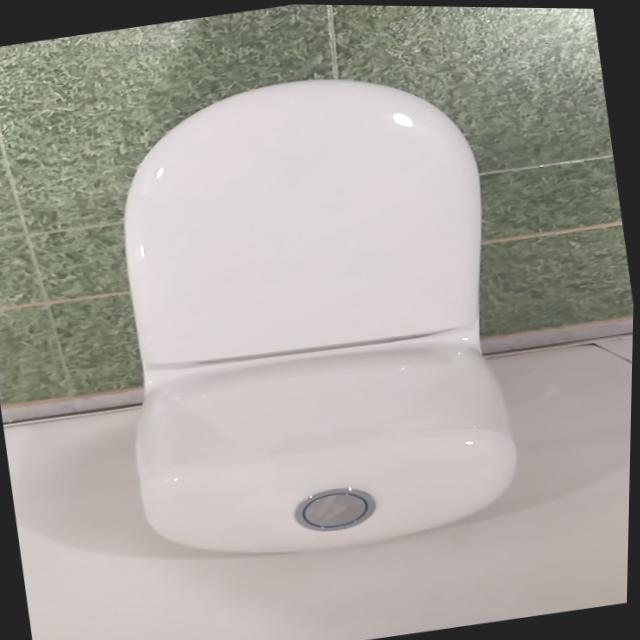toilet: (79, 51, 541, 580)
